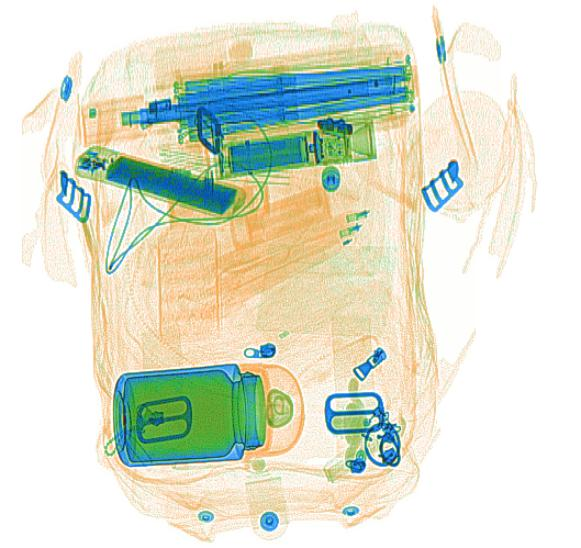battery: (224, 135, 310, 173)
